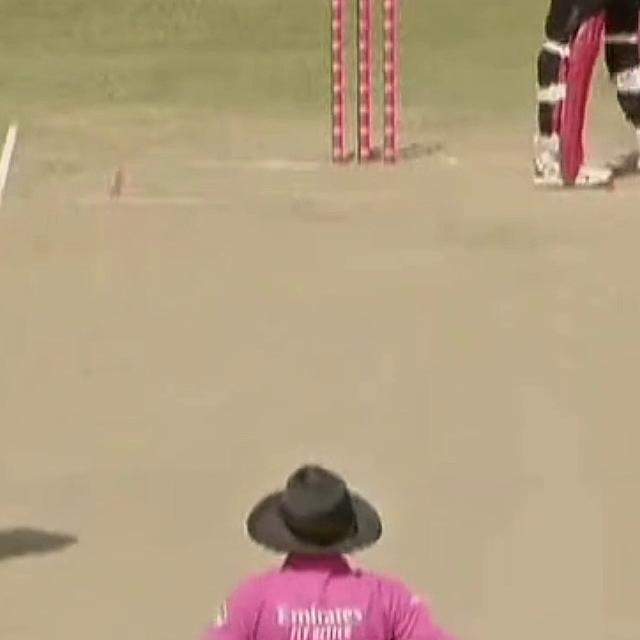umpire: (115, 420, 533, 640), (119, 440, 536, 640)
